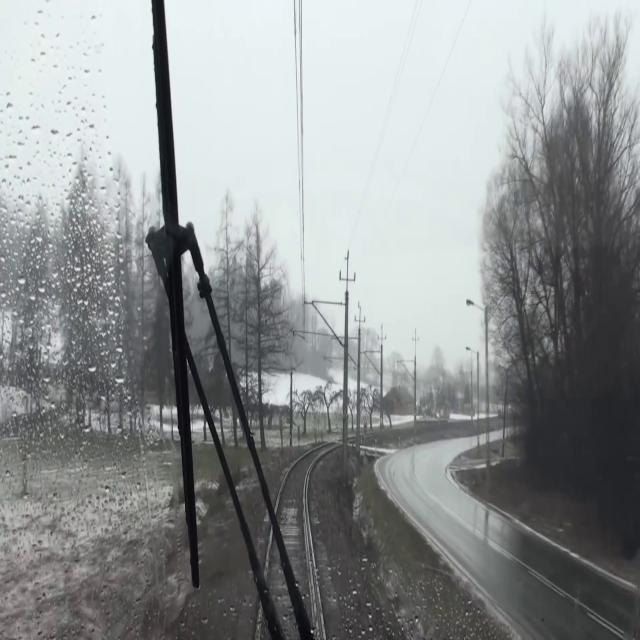rail-track: (276, 456, 313, 639)
